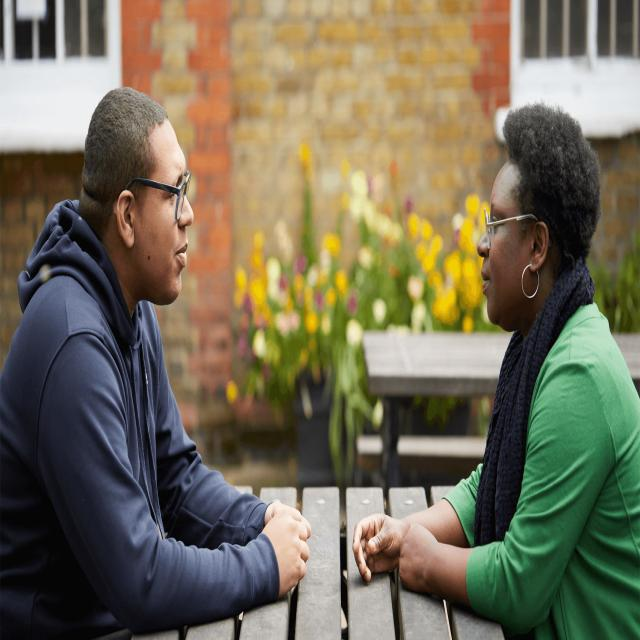adult: (0, 80, 310, 639), (349, 102, 639, 640)
